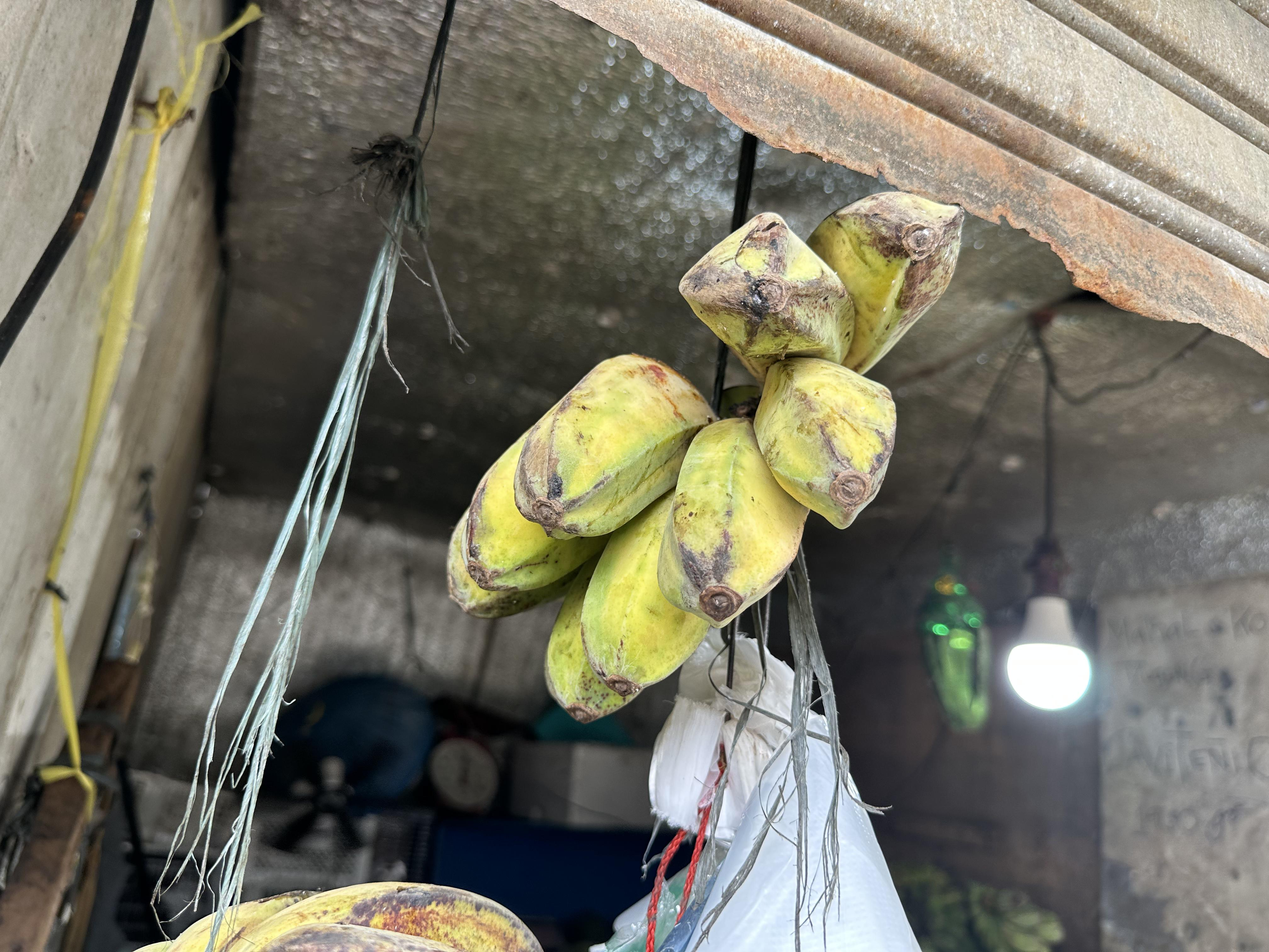underripe: (445, 191, 960, 722)
